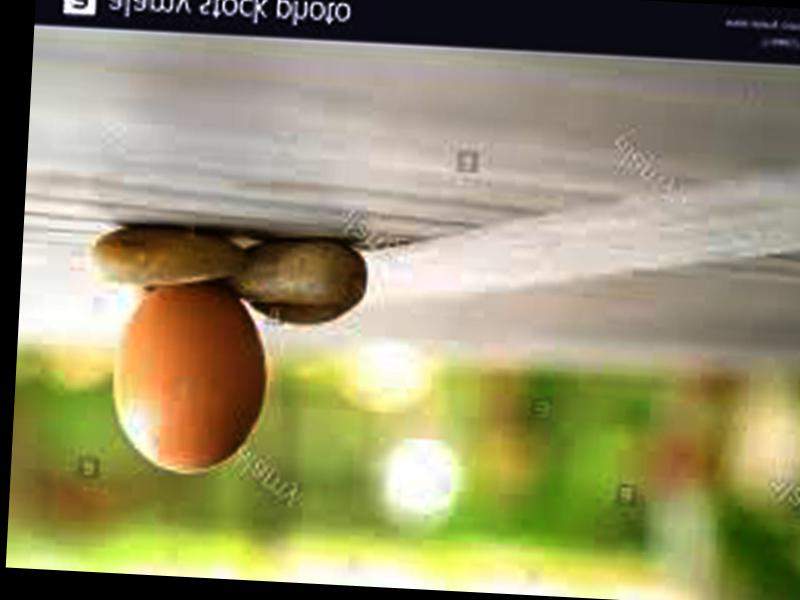Eggs: (106, 278, 271, 474)
